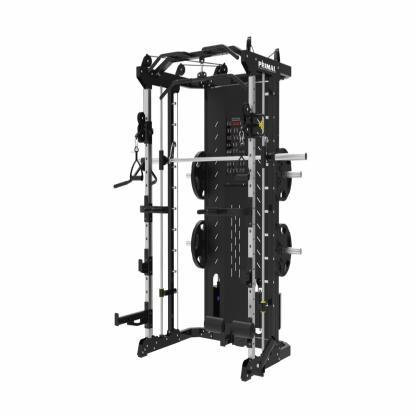smith machine: (114, 37, 308, 384)
